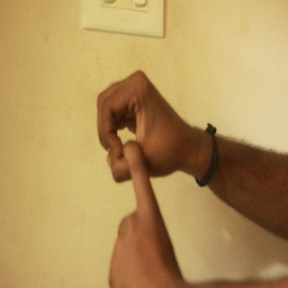Q: (79, 70, 200, 269)
